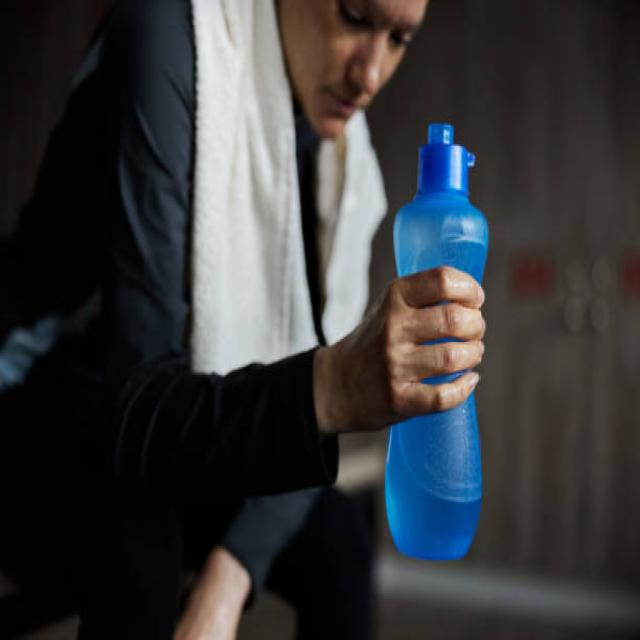blue_bottle: (386, 101, 490, 574)
